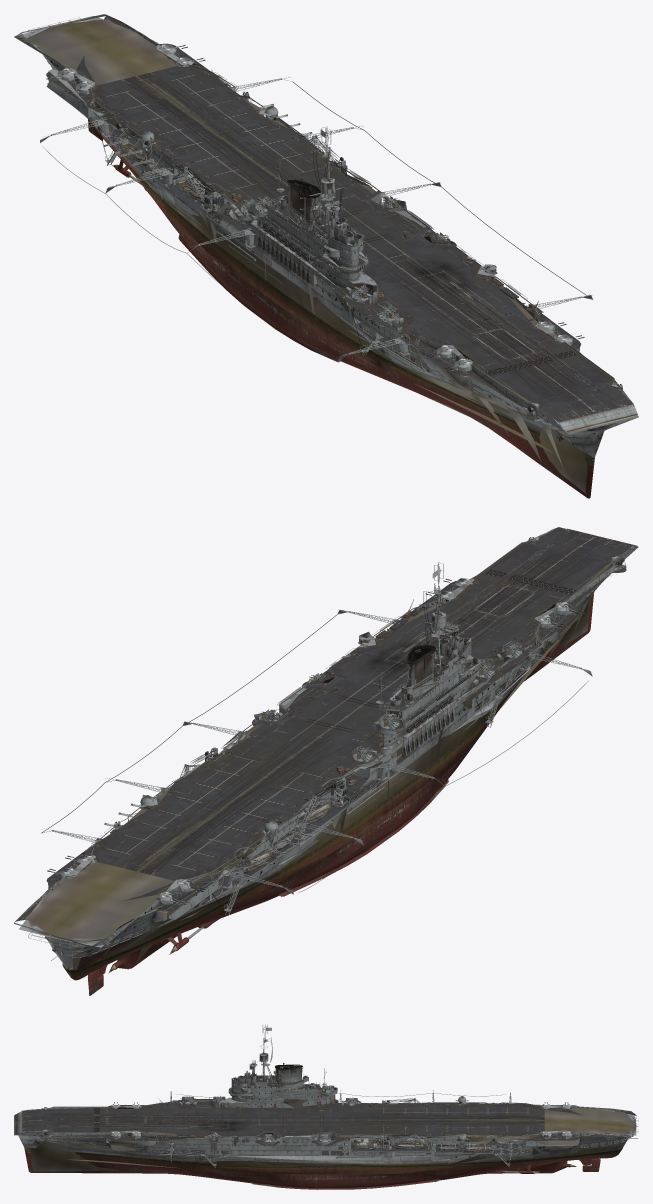
Rendered from cv_hms_illustrious_war_thunder-maximum-compressed.glb.
The picture shows the model from 3 angles, top to bottom: view 1: azimuth 30°, elevation 25°; view 2: azimuth 150°, elevation 25°; view 3: azimuth 270°, elevation 25°; orthographic projection. The views are drawn at different scales.
Visible parts, largest first — view 1: Object_93, Object_75, Object_48, Object_46, Object_28, Object_85, Object_23, Object_4, Object_24, Object_15, Object_8, Object_21 (+7 smaller); view 2: Object_93, Object_75, Object_48, Object_46, Object_28, Object_85, Object_4, Object_23, Object_15, Object_24, Object_8, Object_34 (+9 smaller); view 3: Object_93, Object_46, Object_48, Object_75, Object_28, Object_4, Object_24, Object_8, Object_23, Object_85, Object_21, Object_34 (+6 smaller).
Boxes of the visible parts, x1,y1,x2,y2 form: Object_93: (76,15,633,422); Object_75: (26,19,637,493); Object_48: (88,119,594,498); Object_46: (14,16,637,458); Object_28: (14,14,638,434); Object_85: (46,43,580,420); Object_23: (257,205,378,305); Object_4: (89,120,594,464); Object_24: (248,199,383,298); Object_15: (40,54,558,419); Object_8: (97,116,586,431); Object_21: (231,182,324,224); Object_93: (15,527,633,921); Object_75: (25,528,636,971); Object_48: (68,592,594,995); Object_46: (19,582,602,968); Object_28: (14,527,638,946); Object_85: (46,566,626,916); Object_4: (62,678,521,974); Object_23: (382,642,493,747); Object_15: (76,561,626,910); Object_24: (374,637,489,747); Object_8: (53,607,580,955); Object_34: (41,600,586,892); Object_93: (22,1099,630,1140); Object_46: (18,1102,636,1165); Object_48: (25,1151,619,1189); Object_75: (14,1108,634,1174); Object_28: (14,1099,636,1150); Object_4: (24,1147,622,1168); Object_24: (215,1074,337,1108); Object_8: (28,1135,627,1155); Object_23: (209,1075,335,1108); Object_85: (40,1075,579,1145); Object_21: (274,1066,374,1106); Object_34: (160,1074,521,1167).
Size of the model in its own units: 60.96 by 52.05 by 223.
35 materials, 35 textured.
